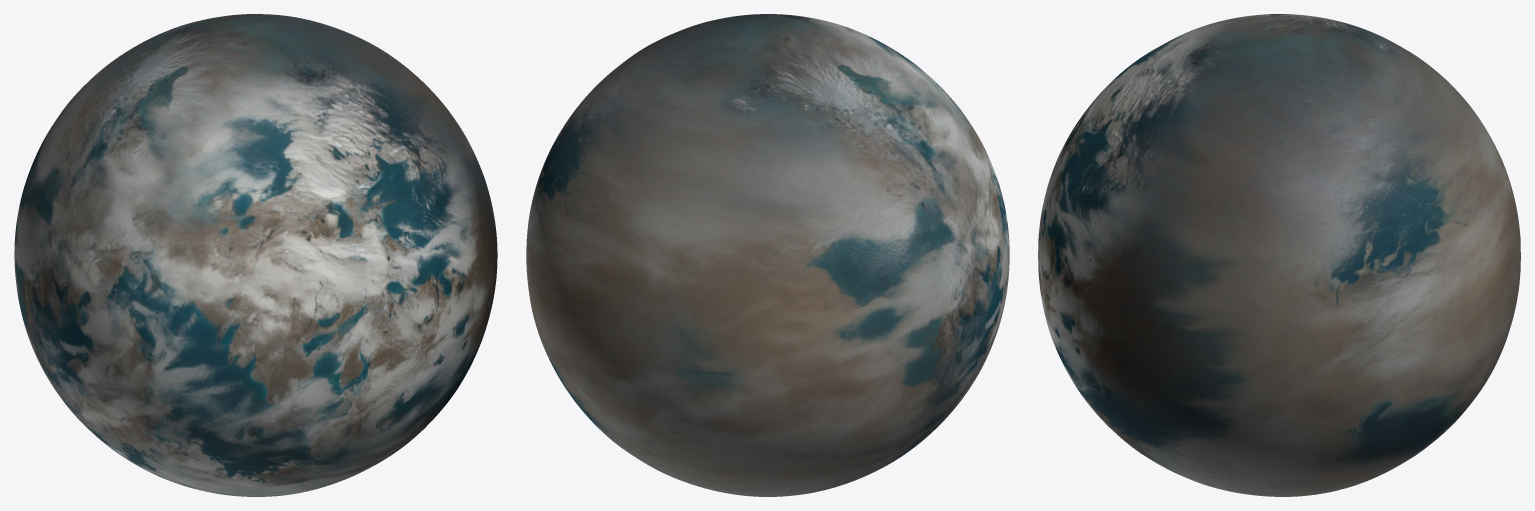
File: TRAPPIST_1_e_0920003738.glb
3 renders of one model, left to right at view 1: azimuth 30°, elevation 25°; view 2: azimuth 150°, elevation 25°; view 3: azimuth 270°, elevation 25°, orthographic.
Size of the model in its own units: 2 by 2 by 2.
Materials: 1 (1 with a texture image).
